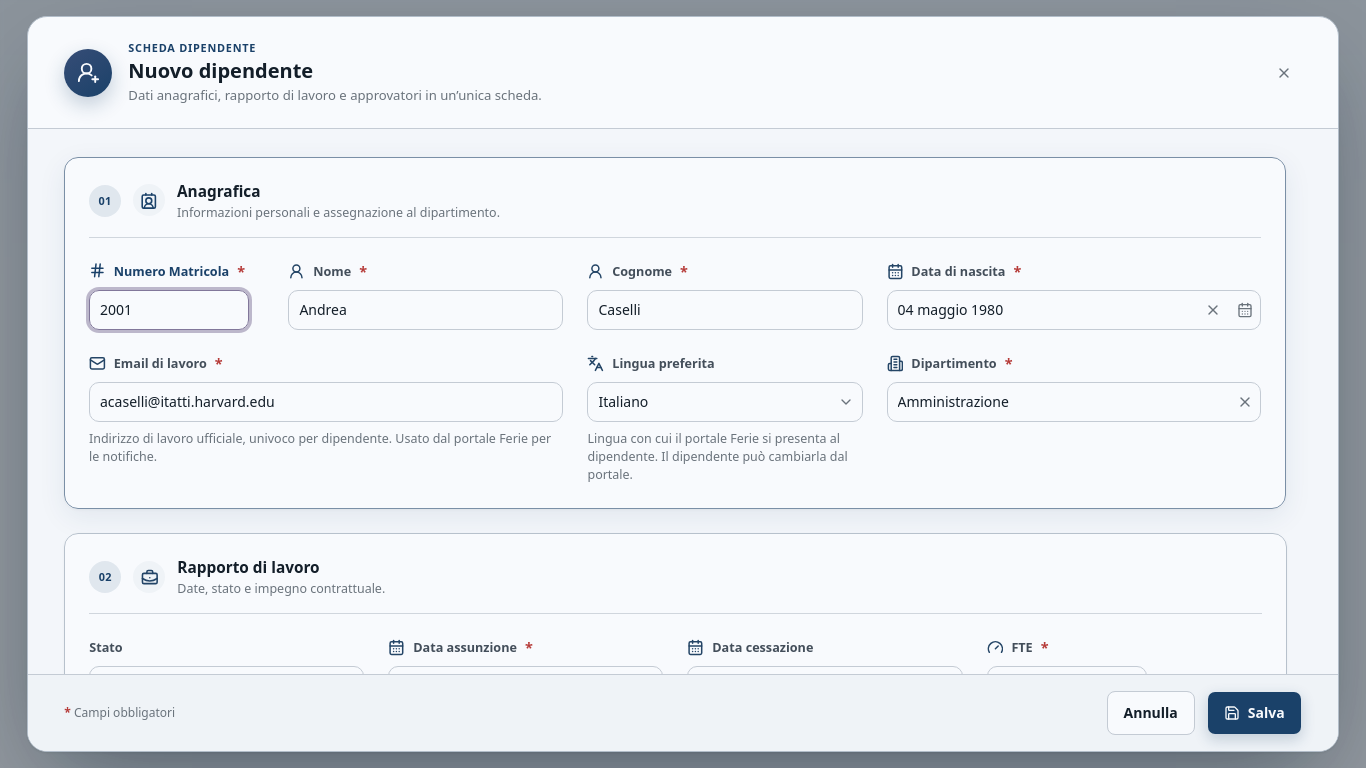
Test case: EmployeeForm validation feedback › rejects an FTE outside the allowed range with the rule spelled out
Click the button "Salva": (1254, 713) left=1207, top=691, right=1302, bottom=735
(page scrolled)
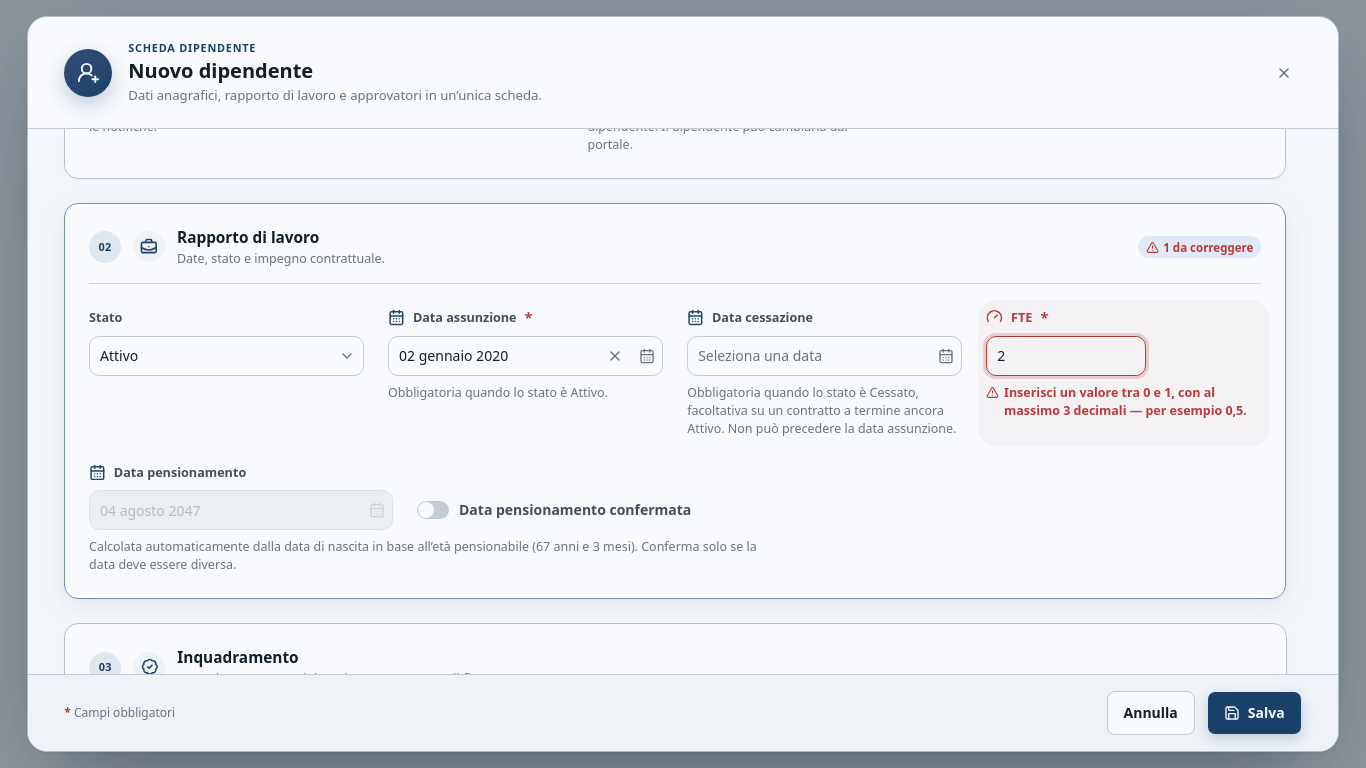
Expected: the message reads "Inserisci un valore tra 0 e 1, con al massimo 3 decimali — per esempio 0,5.", left=1004, top=383, right=1247, bottom=418
